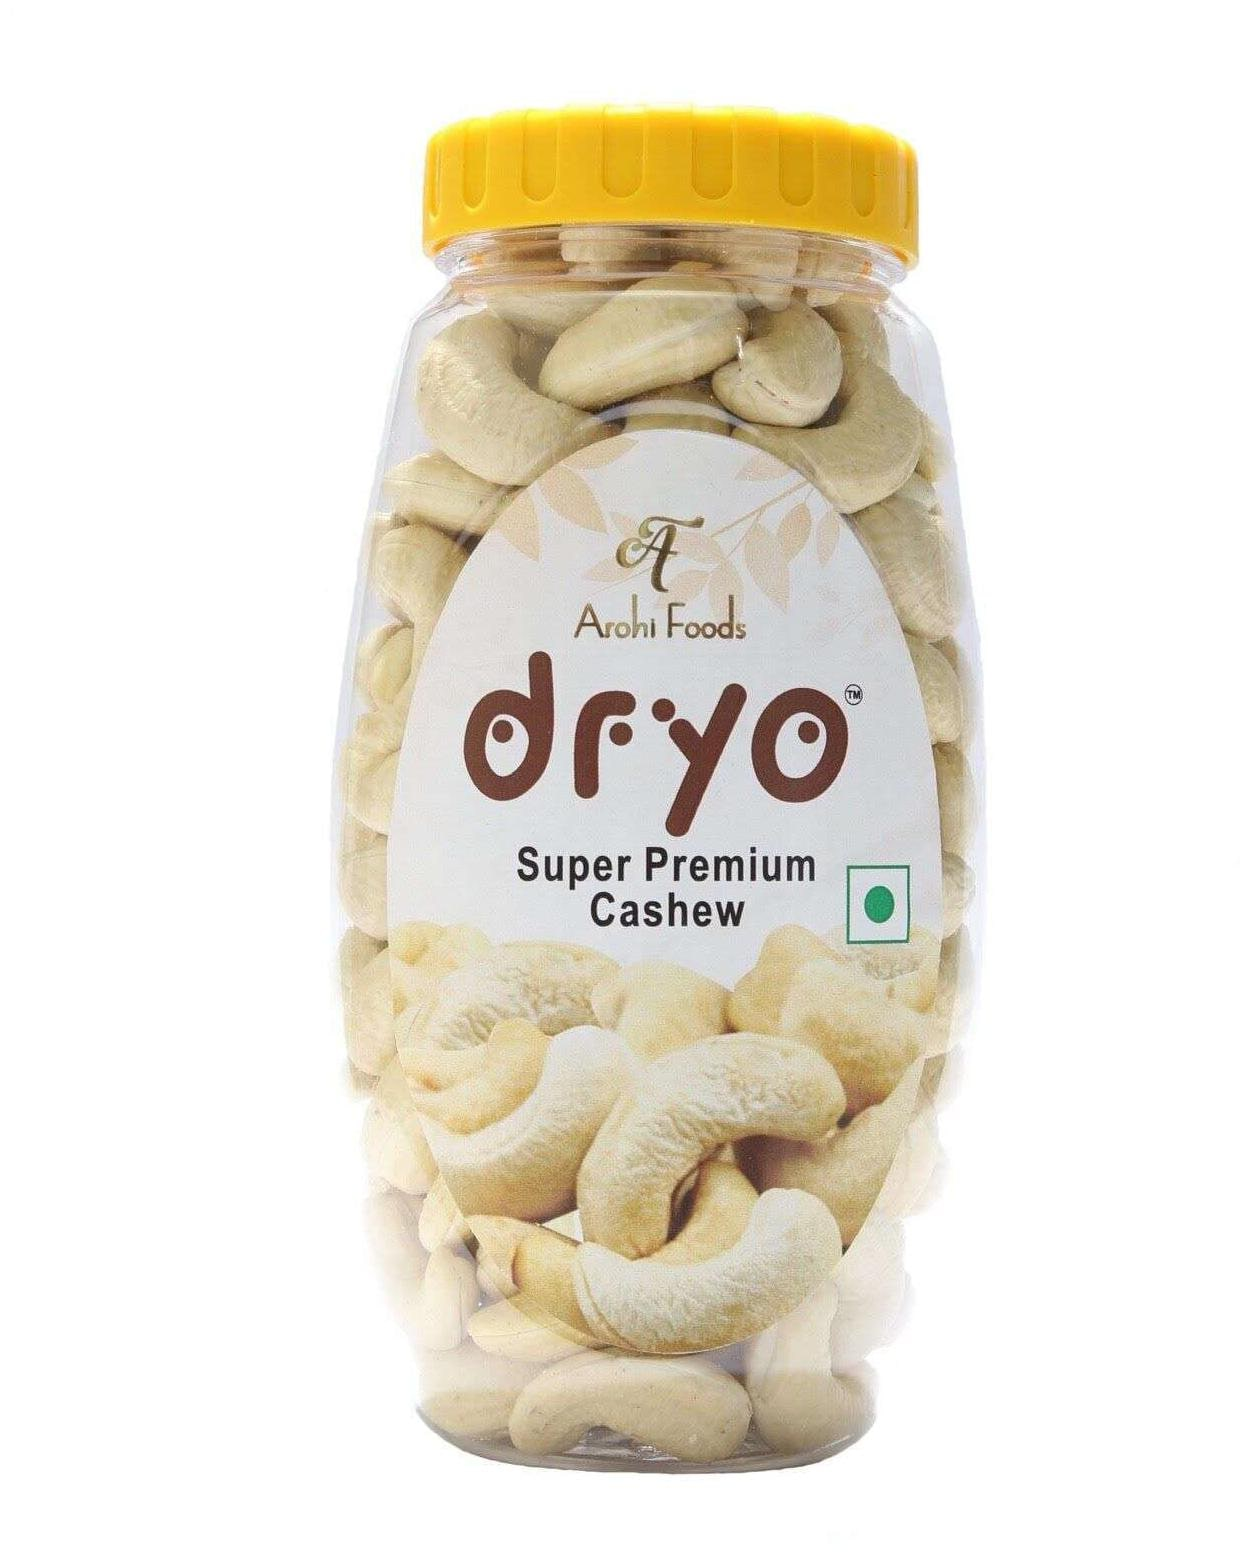JAR: (313, 86, 1002, 1488)
